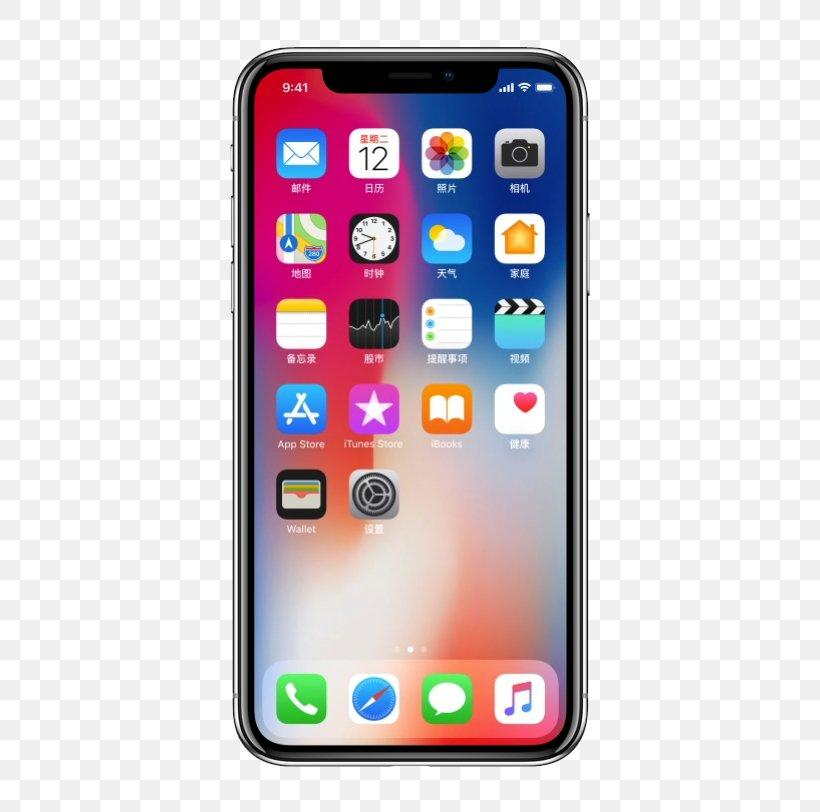Smart Phone: (229, 46, 594, 769)
